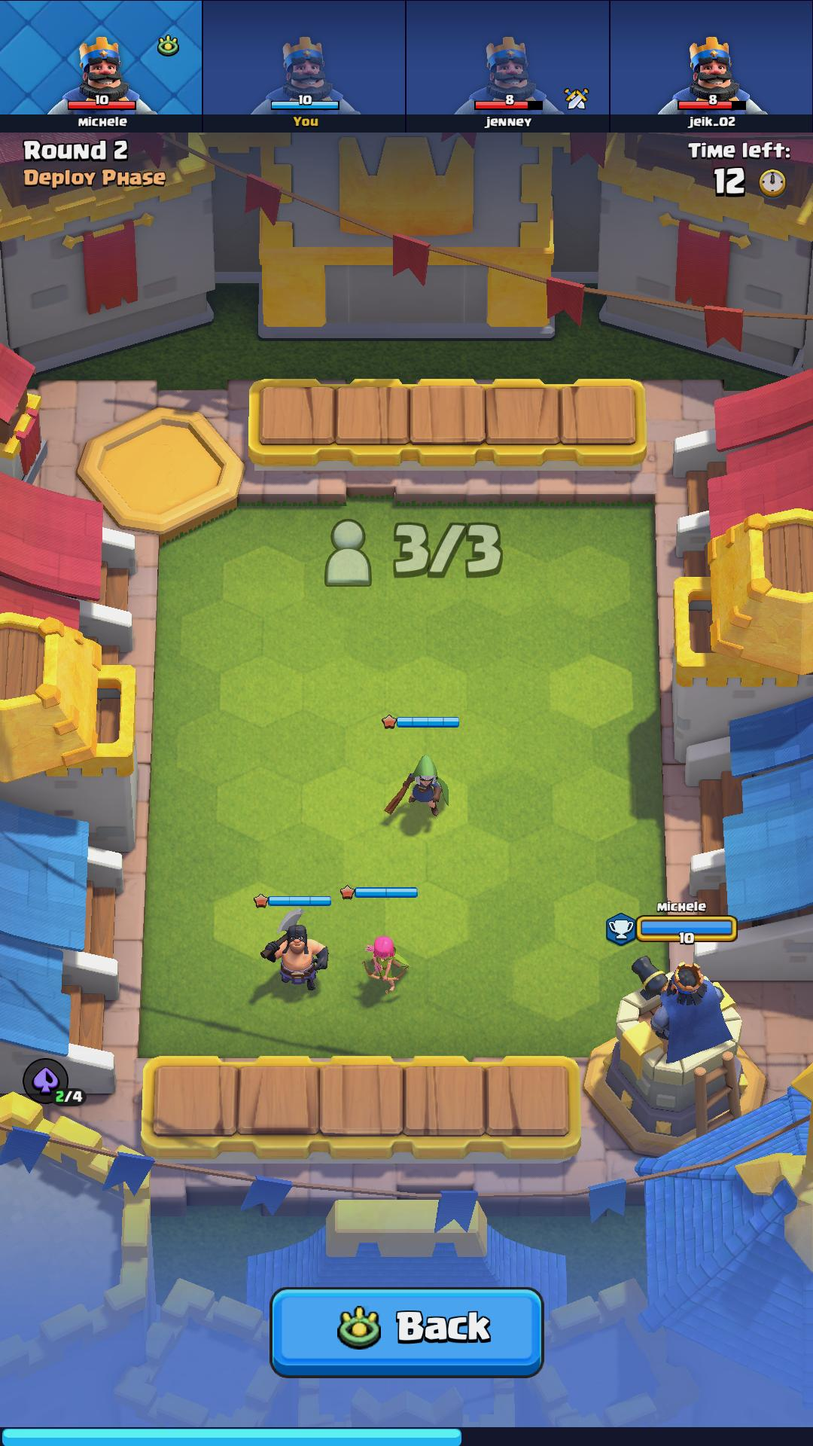archer: (348, 928, 413, 1000)
bandit: (383, 746, 458, 821)
executioner: (257, 908, 339, 999)
